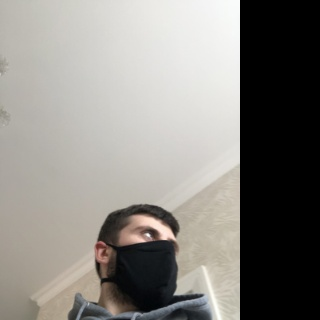with_mask: (113, 224, 180, 309)
